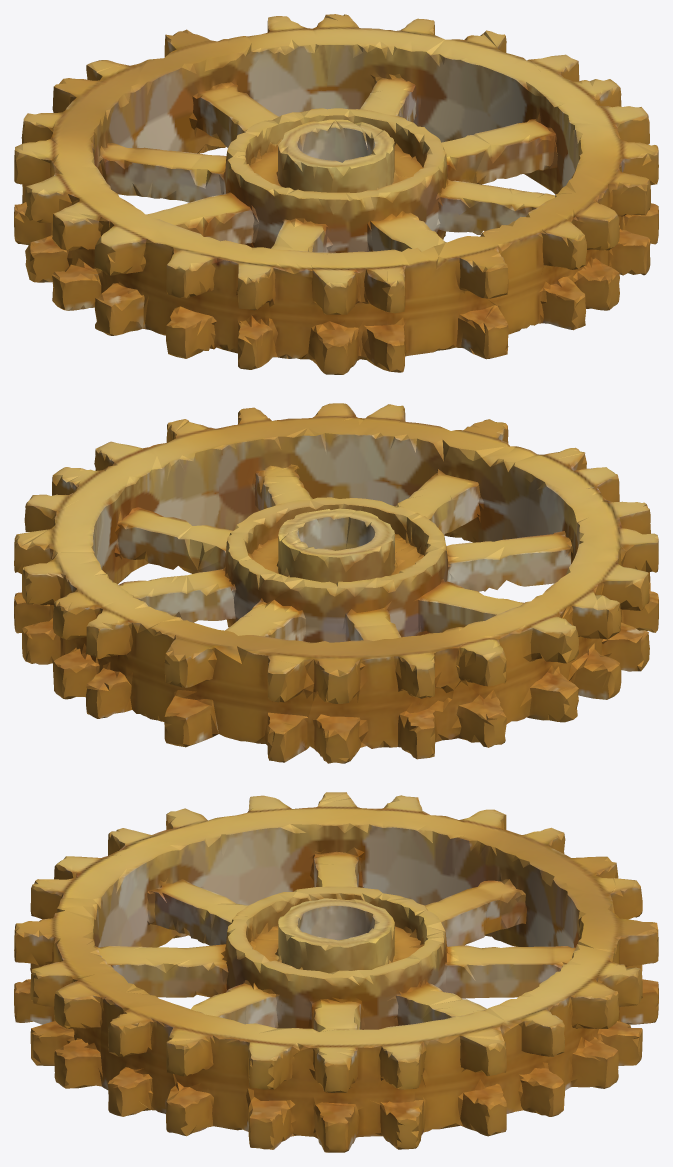
The model's file is revolution_cog.glb.
3 views of the same model, one above another, from view 1: azimuth 30°, elevation 25°; view 2: azimuth 150°, elevation 25°; view 3: azimuth 270°, elevation 25° (orthographic).
Parts seen in each view (by area): view 1: revolution_cog; view 2: revolution_cog; view 3: revolution_cog.
Part boxes in pixels (left/top/right/bottom): revolution_cog: left=14, top=14, right=658, bottom=374; revolution_cog: left=14, top=403, right=658, bottom=763; revolution_cog: left=14, top=792, right=658, bottom=1152.
Bounding box in the file's own units: 1.89 × 0.3355 × 1.89.
1 material, 1 textured.
